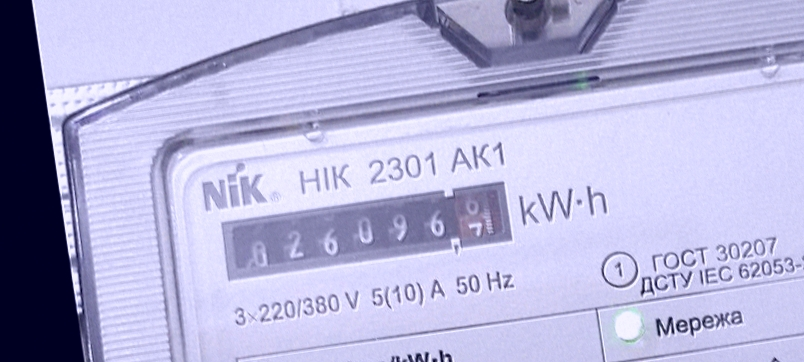0: (352, 210, 376, 248), (246, 233, 270, 268)
2: (281, 224, 307, 262)
6: (318, 221, 342, 259), (424, 203, 447, 238), (459, 187, 482, 217)
7: (465, 216, 485, 240)
9: (388, 208, 411, 242)
screen: (208, 169, 521, 293)
